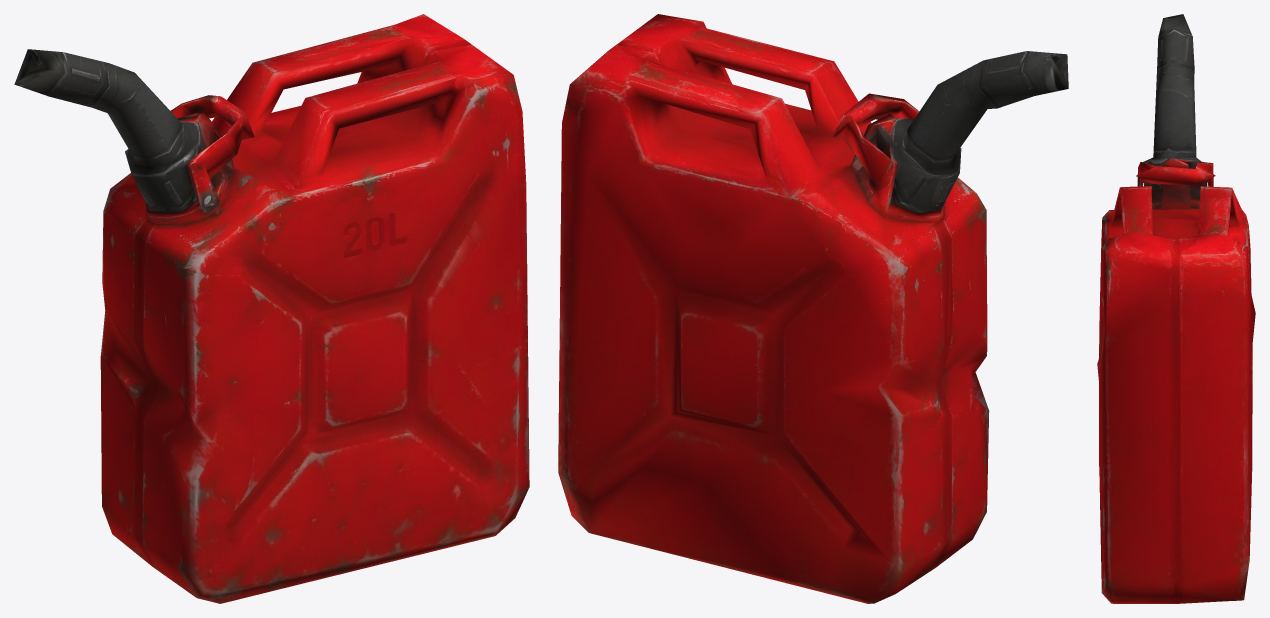
Rendered from bidon.glb.
3 views of the same model, side by side, from view 1: azimuth 30°, elevation 25°; view 2: azimuth 150°, elevation 25°; view 3: azimuth 270°, elevation 25° (orthographic). The views are drawn at different scales.
Parts seen in each view (by area): view 1: tripo_node_6c38543c-3e2c-4238-a027-178b22041028; view 2: tripo_node_6c38543c-3e2c-4238-a027-178b22041028; view 3: tripo_node_6c38543c-3e2c-4238-a027-178b22041028.
Part boxes in pixels (x1,y1,x2,y2): tripo_node_6c38543c-3e2c-4238-a027-178b22041028: (14, 14, 529, 603); tripo_node_6c38543c-3e2c-4238-a027-178b22041028: (558, 14, 1068, 603); tripo_node_6c38543c-3e2c-4238-a027-178b22041028: (1097, 14, 1255, 603).
Size of the model in its own units: 0.8681 by 0.9757 by 0.3246.
1 material, 1 textured.
